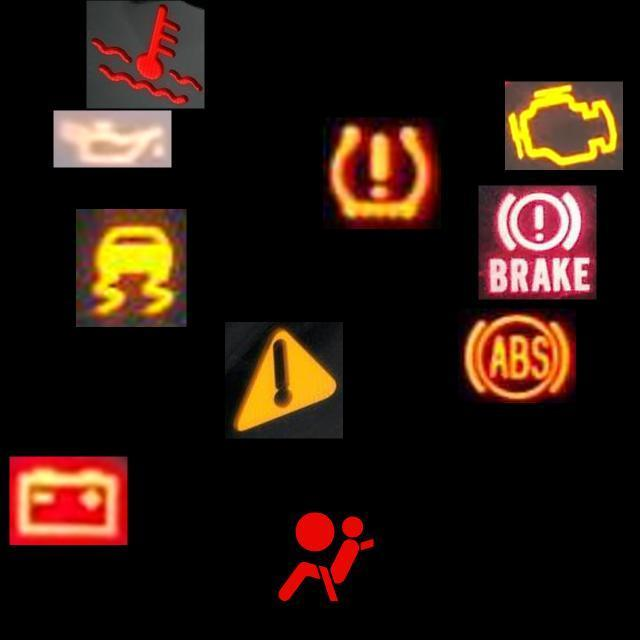Central Warning lamp: (225, 322, 343, 438)
Engine cooling system: (86, 0, 205, 109)
